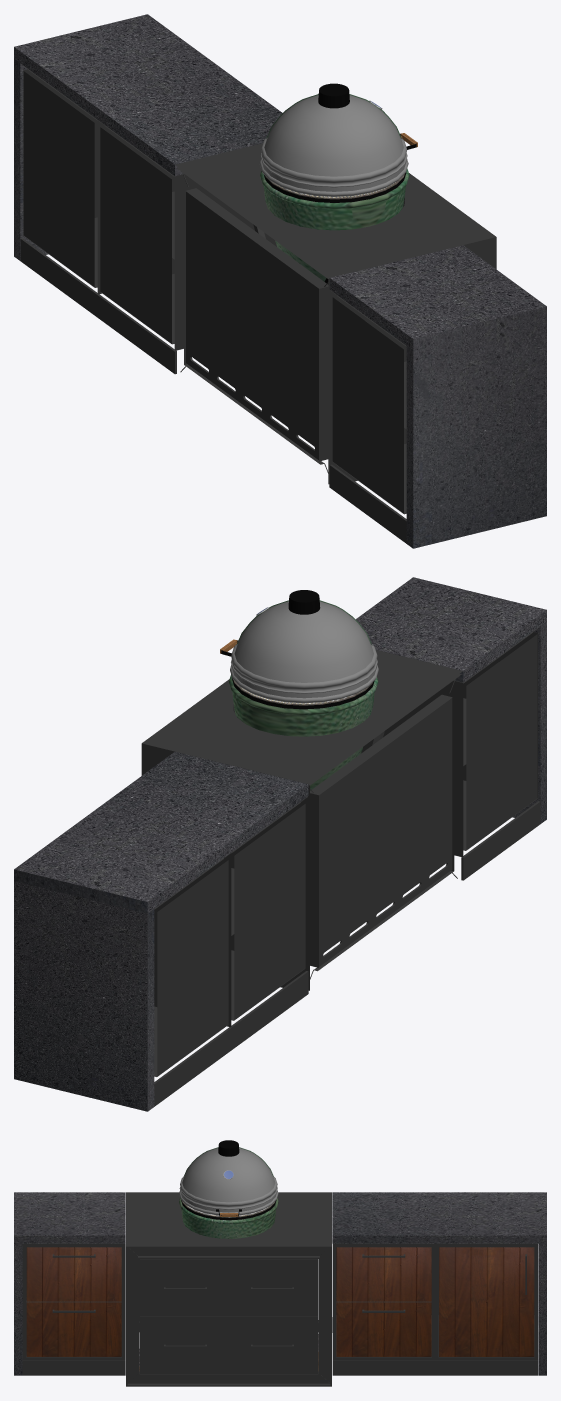
The model's file is Gardenzio_modely_FIN_samostatne1.gltf.
3 renders of one model, top to bottom at view 1: azimuth 30°, elevation 25°; view 2: azimuth 150°, elevation 25°; view 3: azimuth 270°, elevation 25°, orthographic. The views are drawn at different scales.
Visible parts, largest first — view 1: object 43, object 47, object 85, object 37, object 69, Cover Body, object 83, object 7, object 76, object 39, Lower Body, object 67 (+7 smaller); view 2: object 45, object 85, object 47, object 37, Cover Body, object 83, object 76, object 69, object 7, object 67, Lower Body, object 39 (+9 smaller); view 3: object 37, object 2, object 71, object 41, object 85, object 78, object 77, object 69, Cover Body, Lower Body, object 3, object 72 (+3 smaller).
Boxes of the visible parts, <box> form: object 43: <box>406,318,546,548</box>; object 47: <box>186,191,318,459</box>; object 85: <box>14,14,282,175</box>; object 37: <box>175,143,496,487</box>; object 69: <box>329,245,546,350</box>; Cover Body: <box>259,83,408,196</box>; object 83: <box>23,71,94,286</box>; object 7: <box>332,298,403,513</box>; object 76: <box>100,127,171,343</box>; object 39: <box>100,128,171,343</box>; Lower Body: <box>260,168,409,281</box>; object 67: <box>332,297,365,481</box>; object 45: <box>14,881,154,1111</box>; object 85: <box>14,751,308,913</box>; object 47: <box>319,698,452,966</box>; object 37: <box>141,650,462,990</box>; Cover Body: <box>230,590,378,703</box>; object 83: <box>157,860,228,1076</box>; object 76: <box>234,804,305,1019</box>; object 69: <box>356,577,546,682</box>; object 7: <box>484,634,537,827</box>; object 67: <box>466,662,498,849</box>; Lower Body: <box>229,674,378,790</box>; object 39: <box>234,804,304,1019</box>; object 37: <box>126,1192,331,1386</box>; object 2: <box>22,1243,125,1360</box>; object 71: <box>332,1243,435,1360</box>; object 41: <box>435,1243,537,1360</box>; object 85: <box>332,1192,546,1243</box>; object 78: <box>140,1259,317,1316</box>; object 77: <box>140,1316,317,1373</box>; object 69: <box>14,1192,125,1243</box>; Cover Body: <box>179,1140,278,1215</box>; Lower Body: <box>179,1198,278,1238</box>; object 3: <box>22,1360,125,1375</box>; object 72: <box>332,1360,435,1375</box>.
Size of the model in its own units: 0.775 by 1.38 by 3.1.
17 materials, 14 textured.
